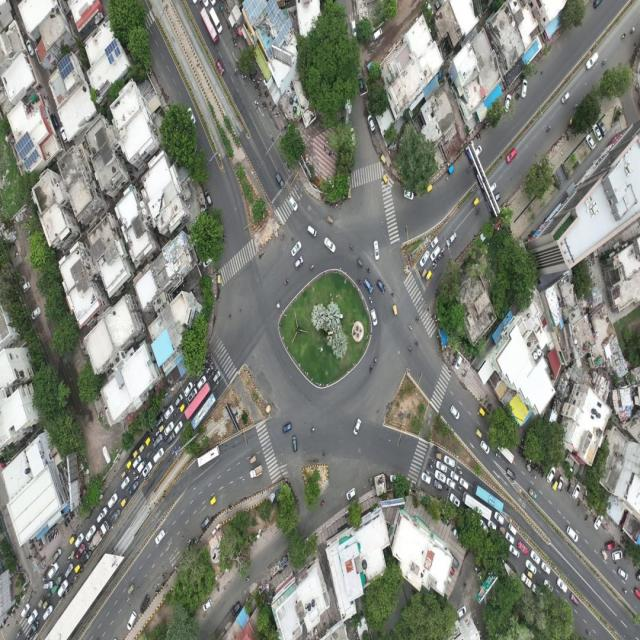3W: (445, 161, 457, 177), (324, 211, 335, 227), (470, 192, 480, 209), (390, 300, 399, 318), (70, 547, 80, 563), (126, 581, 136, 597), (496, 522, 506, 538), (421, 263, 430, 280), (426, 180, 434, 198), (477, 404, 487, 418), (568, 112, 576, 129), (41, 595, 50, 610), (74, 561, 84, 574), (380, 173, 390, 186), (432, 449, 442, 462), (550, 476, 558, 492), (120, 494, 129, 508), (209, 494, 218, 508), (474, 426, 483, 440), (354, 256, 364, 268), (380, 151, 387, 168), (126, 458, 134, 472), (179, 402, 187, 416), (248, 454, 258, 465), (524, 568, 533, 580), (51, 583, 59, 596), (146, 447, 154, 460), (55, 574, 64, 585), (69, 533, 78, 544), (158, 422, 167, 433), (216, 272, 223, 286), (38, 594, 45, 607), (121, 467, 128, 480), (145, 433, 152, 446), (426, 269, 432, 282), (140, 442, 146, 453), (132, 449, 139, 458)
Bus: (189, 392, 219, 434), (183, 380, 213, 422), (472, 481, 505, 513), (461, 490, 492, 524), (199, 6, 220, 46), (194, 444, 222, 470), (497, 438, 516, 464)
Cars: (349, 411, 364, 438), (138, 591, 152, 617), (125, 606, 138, 634), (322, 233, 338, 255), (564, 524, 580, 546), (447, 399, 461, 422), (614, 564, 630, 583), (586, 50, 600, 71), (153, 526, 167, 547), (290, 432, 301, 458), (591, 119, 602, 144), (106, 492, 120, 511), (584, 134, 598, 153), (280, 418, 294, 437), (520, 77, 531, 101), (419, 246, 431, 268), (200, 512, 212, 534), (545, 463, 557, 484), (505, 146, 518, 165), (58, 577, 69, 599), (430, 242, 441, 264), (346, 480, 357, 502), (42, 602, 54, 622), (84, 522, 96, 542), (556, 577, 570, 594), (445, 230, 458, 248), (478, 438, 491, 456), (200, 595, 213, 613), (28, 619, 40, 638), (96, 505, 108, 524), (153, 446, 165, 465), (287, 194, 299, 213), (530, 547, 542, 566), (230, 599, 242, 618), (504, 466, 518, 482), (517, 540, 531, 556), (593, 512, 606, 529), (64, 560, 75, 580), (75, 530, 86, 550), (75, 542, 87, 560), (598, 117, 608, 138), (610, 550, 625, 564), (524, 558, 538, 573), (274, 171, 285, 190), (363, 276, 374, 295), (293, 256, 306, 272), (305, 222, 318, 238), (508, 542, 521, 558), (367, 111, 376, 134), (556, 472, 565, 495), (27, 607, 39, 624), (572, 482, 582, 502), (152, 433, 163, 451), (291, 239, 302, 257), (372, 24, 383, 42), (502, 92, 511, 114), (443, 454, 456, 469), (434, 469, 447, 484), (48, 562, 60, 578), (127, 480, 139, 496), (187, 106, 197, 125), (376, 276, 386, 295), (369, 307, 378, 328), (20, 601, 31, 618), (142, 461, 153, 478), (163, 421, 175, 436), (197, 374, 207, 392), (215, 58, 225, 76), (560, 91, 572, 106), (454, 352, 463, 372), (540, 561, 552, 576), (494, 512, 506, 527), (204, 188, 213, 207), (53, 545, 63, 562), (120, 475, 130, 492), (183, 380, 193, 397), (458, 478, 471, 491), (349, 18, 357, 39), (604, 538, 616, 552), (436, 460, 448, 474), (403, 186, 414, 201), (432, 478, 443, 493), (132, 454, 142, 470), (164, 404, 174, 420), (188, 388, 198, 404), (430, 235, 440, 251), (569, 592, 579, 608), (505, 530, 515, 546), (445, 477, 457, 490), (420, 472, 432, 485), (110, 509, 121, 523), (373, 240, 380, 262), (507, 522, 518, 536), (487, 519, 498, 533), (450, 494, 461, 508), (174, 392, 184, 407), (349, 126, 356, 147), (358, 73, 365, 94), (42, 579, 54, 591), (167, 430, 176, 446), (212, 369, 221, 385), (83, 550, 93, 564), (174, 420, 184, 434), (448, 470, 459, 482), (473, 145, 482, 159), (155, 415, 164, 428)
LCV: (207, 4, 226, 36), (517, 568, 533, 593), (248, 464, 265, 483), (136, 458, 147, 474)
M2W: (243, 571, 252, 585), (600, 56, 609, 69), (367, 361, 374, 376), (475, 204, 483, 217), (15, 626, 22, 640), (278, 232, 286, 243), (621, 29, 628, 41), (583, 511, 589, 525), (24, 612, 32, 622), (621, 586, 629, 596), (318, 500, 326, 510), (456, 481, 463, 492), (456, 467, 464, 476), (372, 354, 378, 366), (348, 242, 355, 252), (365, 264, 372, 274), (546, 124, 553, 134), (535, 578, 542, 588), (185, 537, 192, 547), (132, 469, 139, 478), (308, 263, 315, 272), (355, 276, 362, 285), (406, 321, 413, 330), (62, 520, 68, 530), (142, 476, 148, 486), (151, 434, 157, 444), (270, 134, 276, 144), (284, 276, 290, 286), (573, 101, 579, 111), (424, 467, 430, 477), (41, 574, 48, 582), (33, 551, 38, 562), (78, 567, 84, 576), (241, 71, 247, 80), (427, 462, 433, 471), (310, 425, 316, 434), (222, 232, 226, 245), (64, 587, 69, 597), (66, 554, 71, 564), (176, 404, 181, 414), (205, 366, 210, 376), (233, 66, 238, 76), (432, 257, 437, 267), (577, 498, 582, 508), (45, 592, 52, 599), (26, 553, 33, 560), (82, 547, 88, 555), (134, 474, 140, 482), (236, 68, 242, 76), (262, 90, 268, 98), (516, 92, 520, 104), (630, 26, 636, 34), (432, 264, 438, 272), (443, 483, 449, 491), (494, 450, 499, 459), (154, 587, 159, 596), (232, 41, 238, 48), (414, 340, 420, 347), (430, 458, 436, 465), (47, 533, 51, 543), (210, 363, 215, 371), (254, 98, 259, 106), (441, 246, 446, 254), (437, 252, 441, 262), (390, 290, 395, 298), (518, 447, 522, 457), (322, 449, 326, 459), (30, 544, 36, 550), (66, 516, 70, 525), (69, 512, 73, 521), (466, 168, 472, 174), (440, 253, 446, 259), (616, 543, 622, 549), (619, 535, 625, 541), (163, 436, 168, 443), (254, 83, 259, 90), (53, 528, 56, 539), (70, 580, 74, 588), (258, 91, 262, 99), (268, 100, 272, 108), (408, 346, 412, 354), (50, 530, 53, 540), (128, 467, 134, 472), (217, 378, 220, 388), (208, 356, 213, 362), (264, 93, 269, 99), (258, 77, 262, 84), (539, 466, 542, 475), (192, 382, 197, 387), (138, 473, 142, 479), (146, 432, 150, 438), (173, 412, 177, 418), (207, 351, 211, 357), (252, 78, 255, 86), (156, 431, 160, 436), (211, 371, 215, 376), (249, 76, 254, 80), (264, 102, 266, 111), (521, 449, 523, 458), (536, 463, 538, 472), (529, 459, 531, 467)
Truck: (88, 520, 111, 553)
